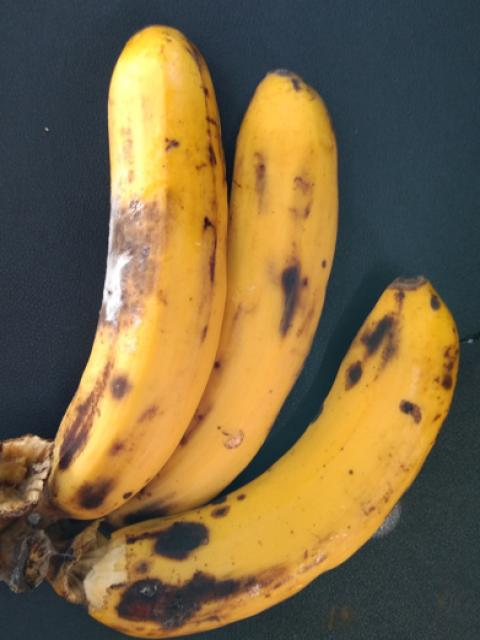overripe: (99, 264, 463, 634), (145, 61, 353, 512), (65, 20, 212, 514)
